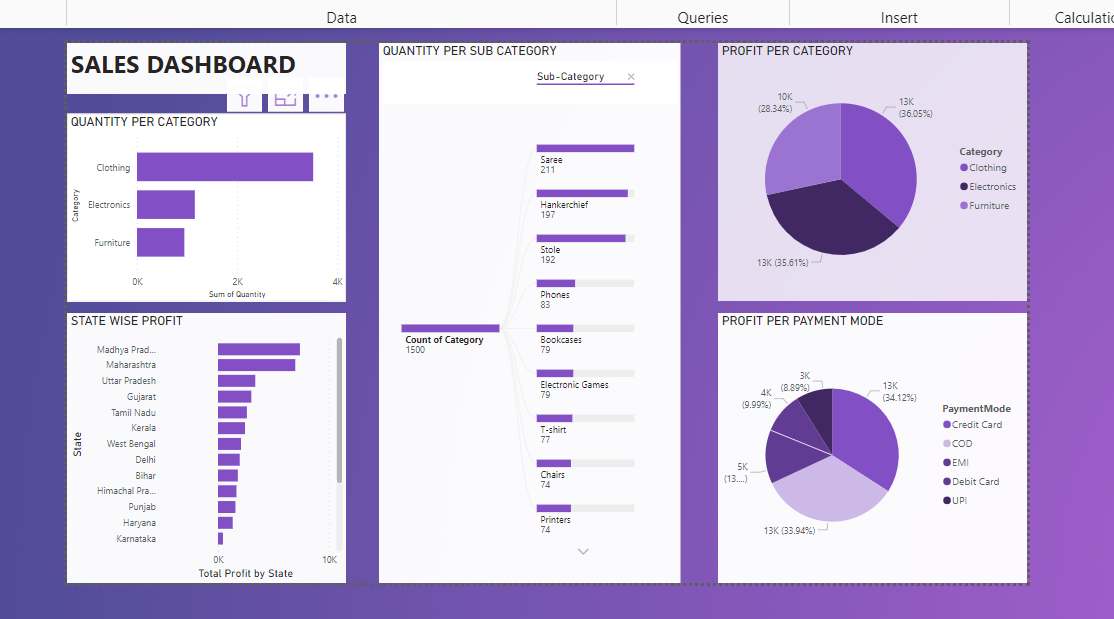

The page's visual inventory and layout, read from the dashboard file:
{"tool":"powerbi","page":{"name":"Page 1","canvas":[1280,720],"ordinal":0},"visuals":[{"type":"clusteredBarChart","title":"QUANTITY PER CATEGORY","fields":{"Category":["Details.Category"],"Y":["Sum(Details.Quantity)"]},"box":[0,93.3,372.2,251.1],"z":0},{"type":"decompositionTreeVisual","title":"QUANTITY PER SUB CATEGORY","fields":{"ExplainBy":["Details.Sub-Category"],"Analyze":["CountNonNull(Details.Category)"]},"box":[416,0,402,720],"z":1000},{"type":"pieChart","title":"PROFIT PER CATEGORY","fields":{"Y":["Details.Total Profit Per Category"],"Category":["Details.Category"]},"box":[868,0,412,344],"z":2000},{"type":"pieChart","title":"PROFIT PER PAYMENT MODE","fields":{"Category":["Details.PaymentMode"],"Y":["Details.Total Profit Per Category"]},"box":[868,360,412,360],"z":3000},{"type":"barChart","title":"STATE WISE PROFIT","fields":{"Y":["Orders.Total Profit by State"],"Category":["Orders.State"]},"box":[0,360,372,360],"z":4000},{"type":"textbox","box":[0,0,372,68],"z":4001}]}

Visuals, with their boxes on the page's 1280x720 design canvas (x1, y1, x2, y2). These are canvas units, not pixel positions in the 1114x619 screenshot, which may show the page scaled, cropped or inside an application window:
"QUANTITY PER CATEGORY" clusteredBarChart: 0, 93, 372, 344
"QUANTITY PER SUB CATEGORY" decompositionTreeVisual: 416, 0, 818, 720
"PROFIT PER CATEGORY" pieChart: 868, 0, 1280, 344
"PROFIT PER PAYMENT MODE" pieChart: 868, 360, 1280, 720
"STATE WISE PROFIT" barChart: 0, 360, 372, 720
textbox: 0, 0, 372, 68
